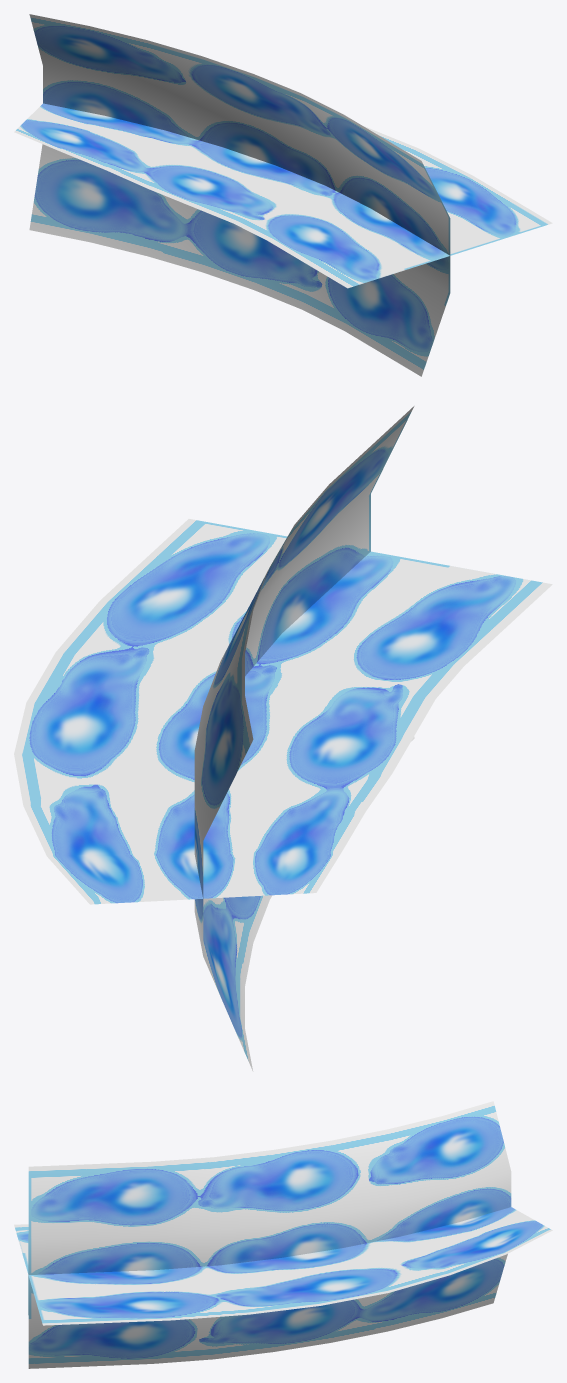
The model's file is yuanzhu4.FBX.
The picture shows the model from 3 angles, top to bottom: view 1: azimuth 30°, elevation 25°; view 2: azimuth 150°, elevation 25°; view 3: azimuth 270°, elevation 25°; orthographic projection. The views are drawn at different scales.
Visible parts, largest first — view 1: yuanzhu4; view 2: yuanzhu4; view 3: yuanzhu4.
Boxes of the visible parts, x1,y1,x2,y2 form: yuanzhu4: [14, 14, 552, 376]; yuanzhu4: [14, 406, 552, 1071]; yuanzhu4: [14, 1101, 552, 1368].
Size of the model in its own units: 29.81 by 19.8 by 47.84.
1 material, 1 textured.
